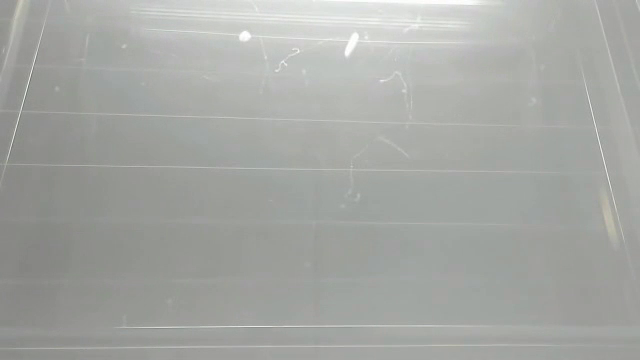alpha: (339, 29, 361, 59), (233, 28, 255, 46)
